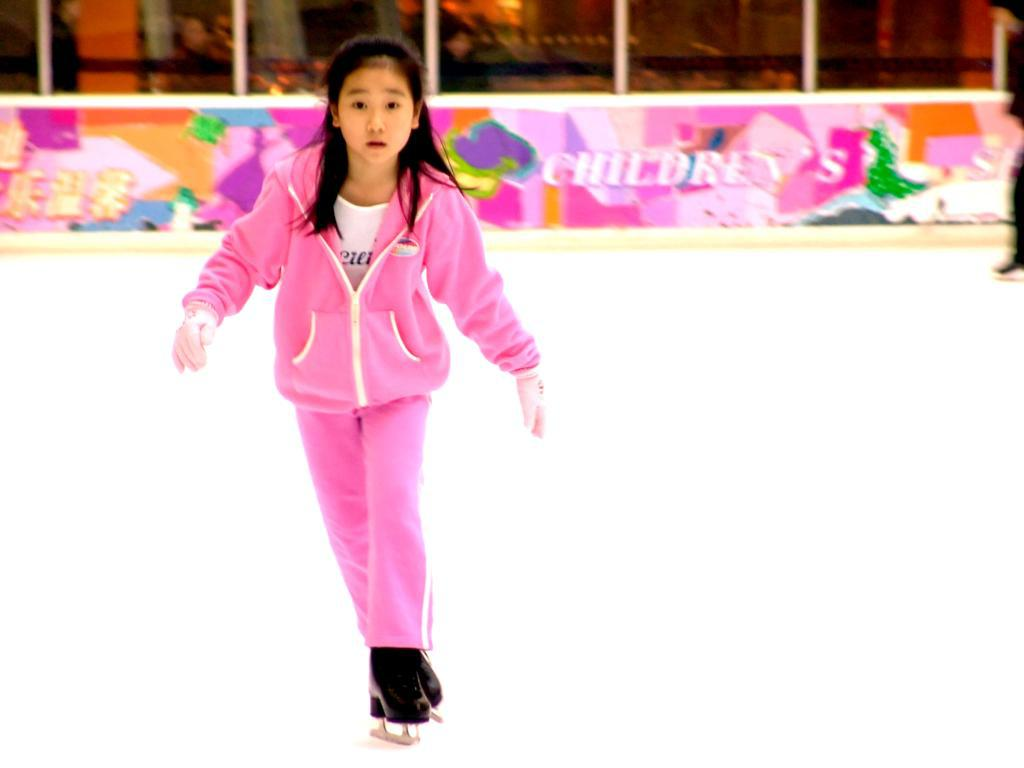face: (339, 57, 417, 163)
